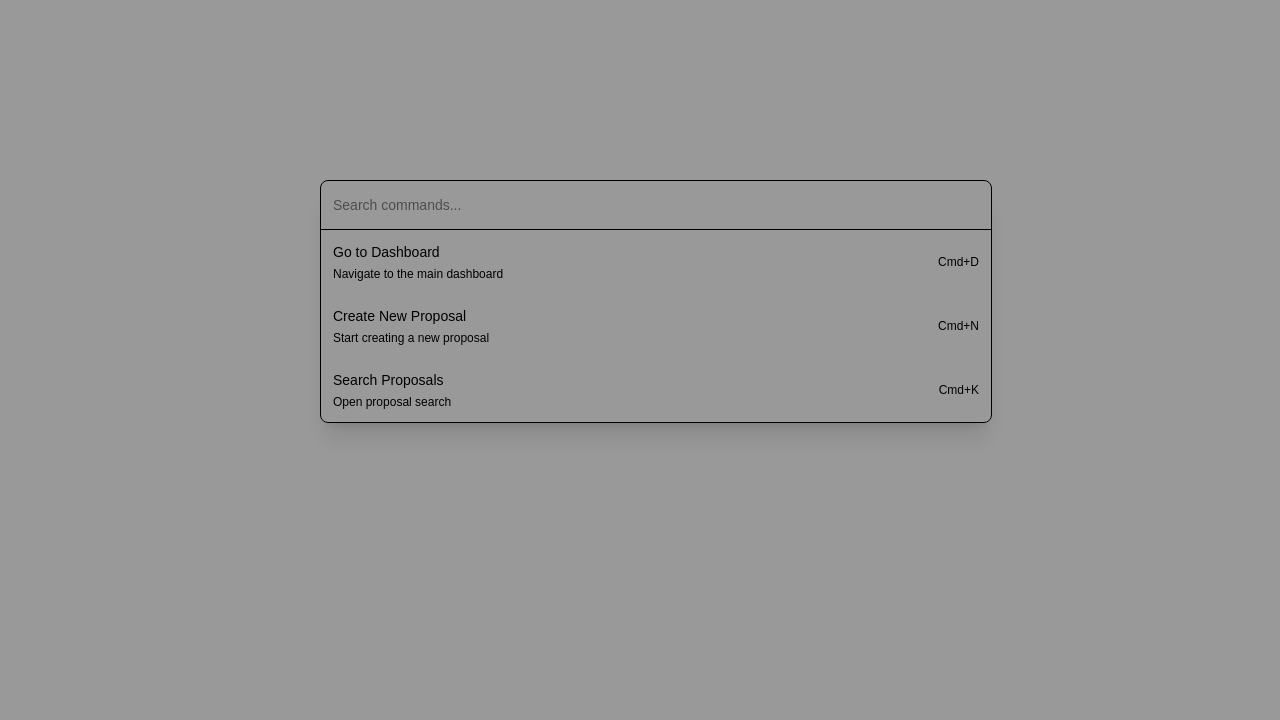
Test case: CommandPalette › displays "No commands found" when search has no results
This screenshot has width=1280, height=720.
Type "nonexistent" into the field with placeholder "Search commands..." at [656, 205], box [333,195,979,215]
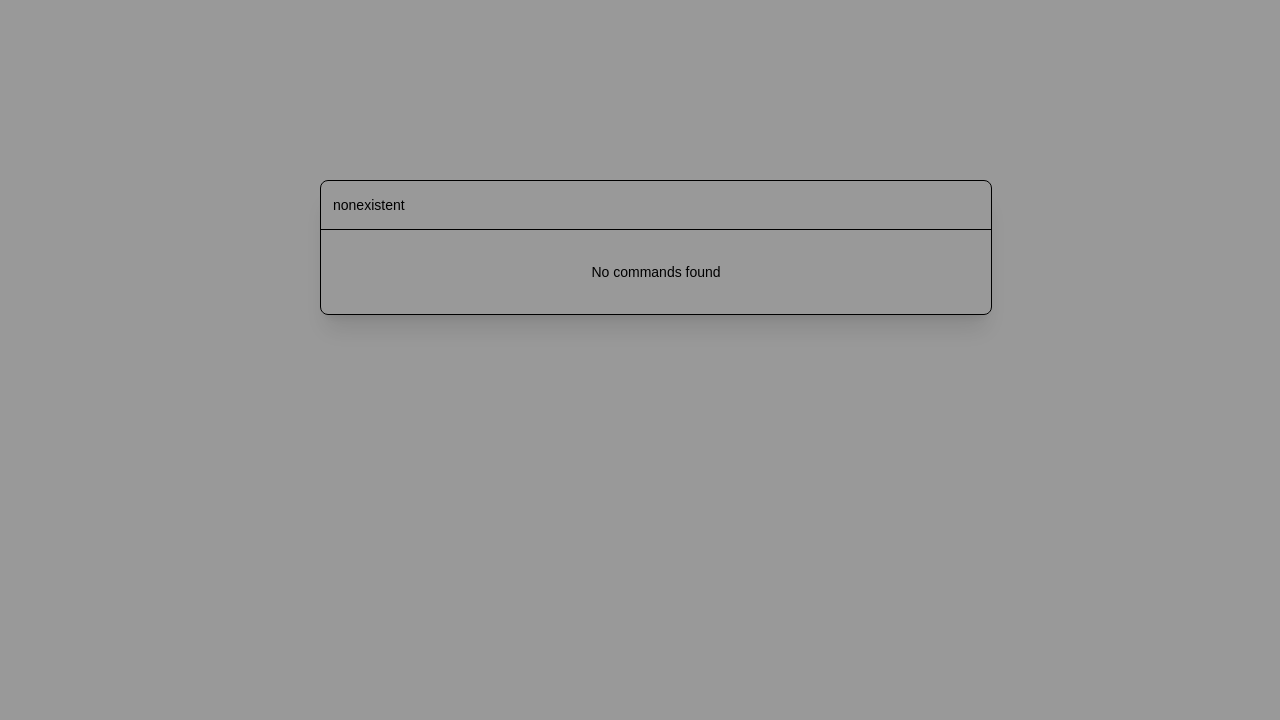
Check: the text "No commands found" is shown, box [591,264,721,280]
